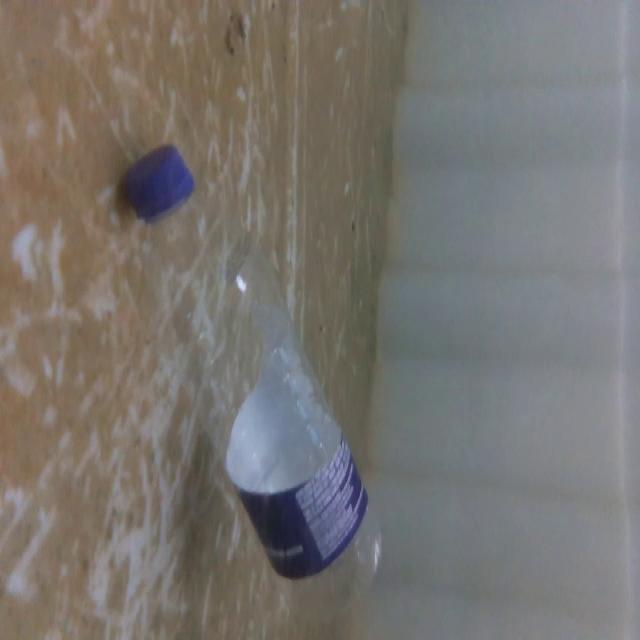plastic bottle: (111, 129, 390, 605)
